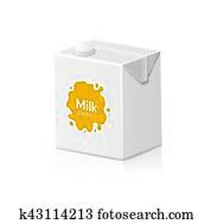carton: (50, 33, 171, 166)
